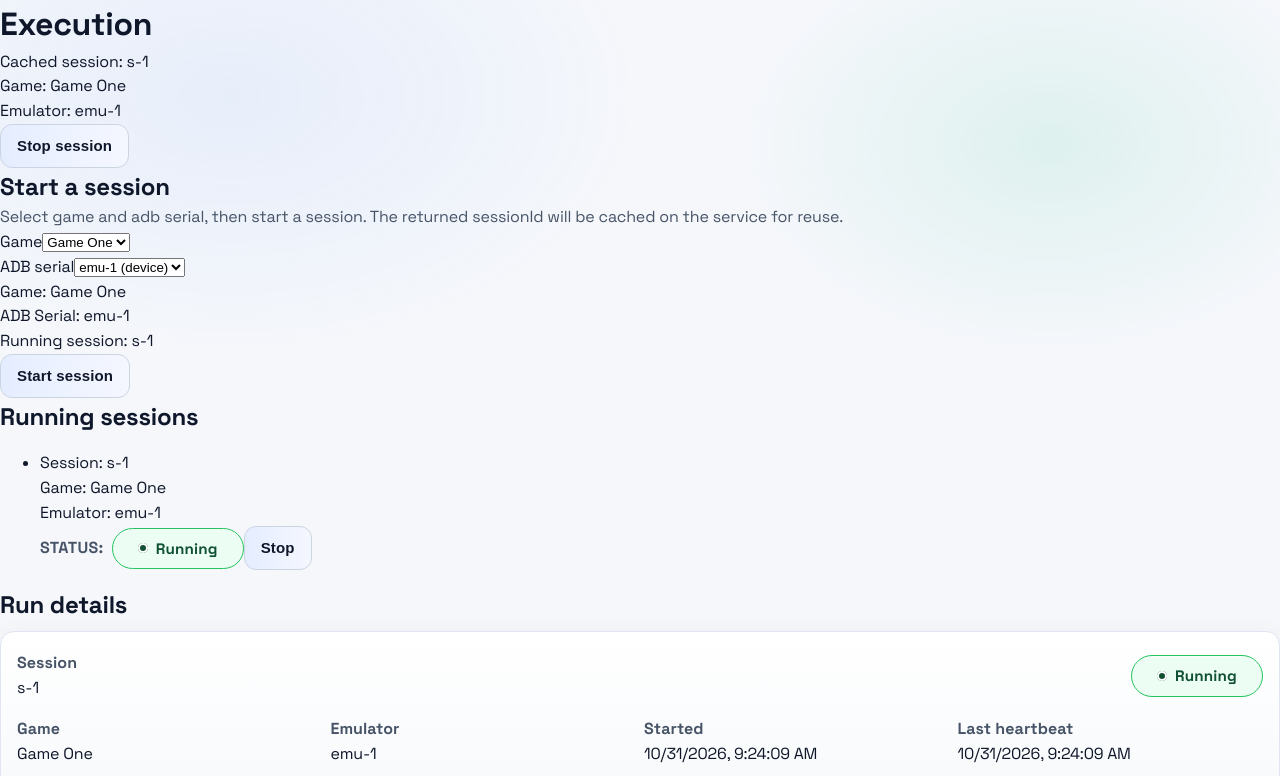
Scenario: Running sessions list › replaces running session after start refresh
The width and height of the screenshot is (1280, 776).
Click the button "Start session".
click(65, 376)  # box [0, 354, 130, 398]
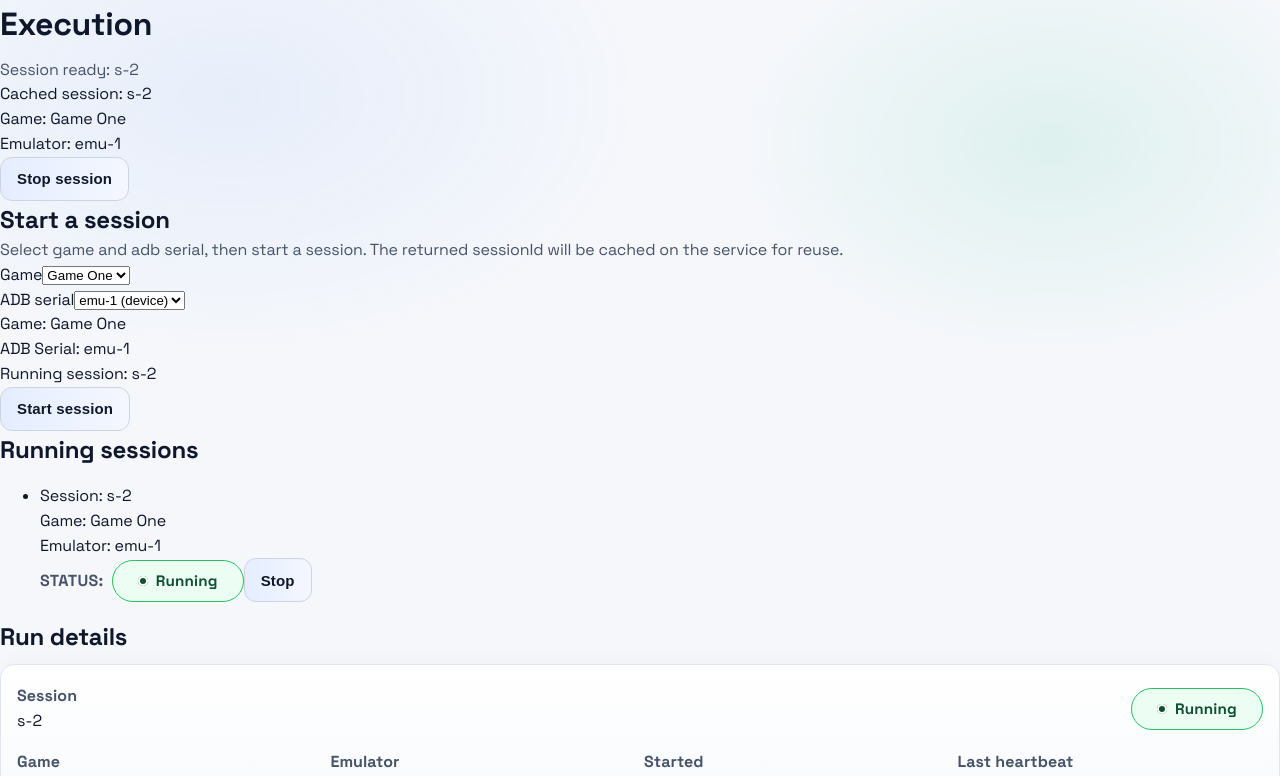
Check: the text "session: s-1" is gone
Check: the text "Session: s-2" is shown, box [40, 485, 131, 506]
